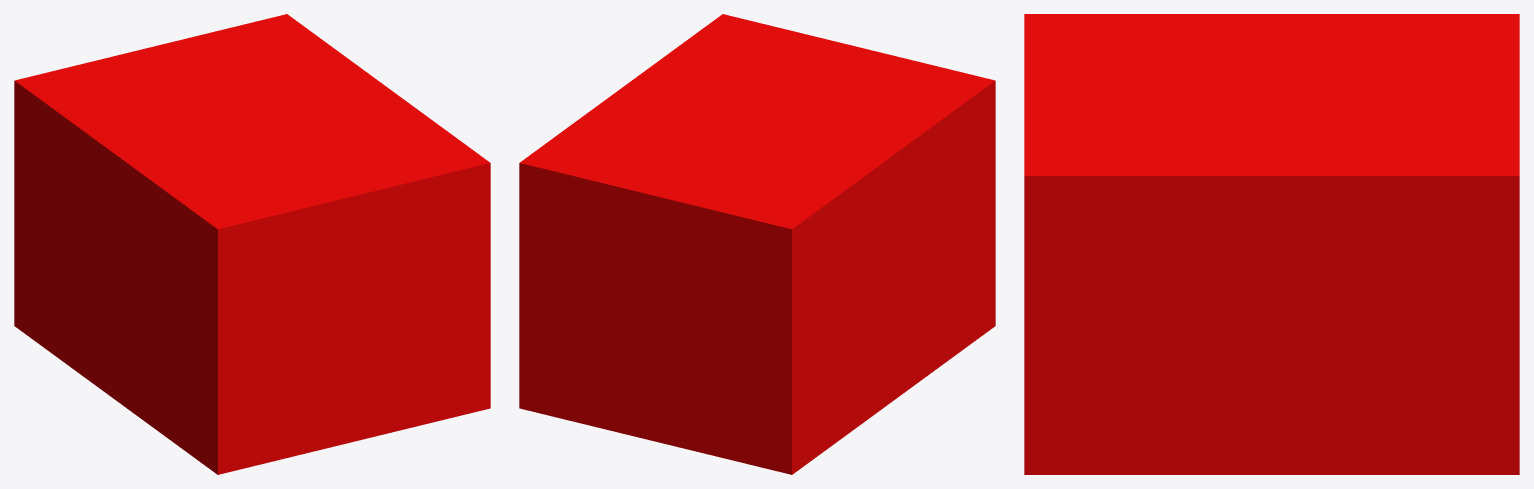
The model's file is pisiform_lvs_col.dae.
3 views of the same model, side by side, from view 1: azimuth 30°, elevation 25°; view 2: azimuth 150°, elevation 25°; view 3: azimuth 270°, elevation 25° (orthographic). The views are drawn at different scales.
Parts seen in each view (by area): view 1: node0; view 2: node0; view 3: node0.
Boxes of the visible parts, bbox=[...] form: node0: bbox=[14, 14, 490, 474]; node0: bbox=[519, 14, 995, 474]; node0: bbox=[1024, 14, 1519, 474].
Bounding box in the file's own units: 0.0109 × 0.00934 × 0.014.
